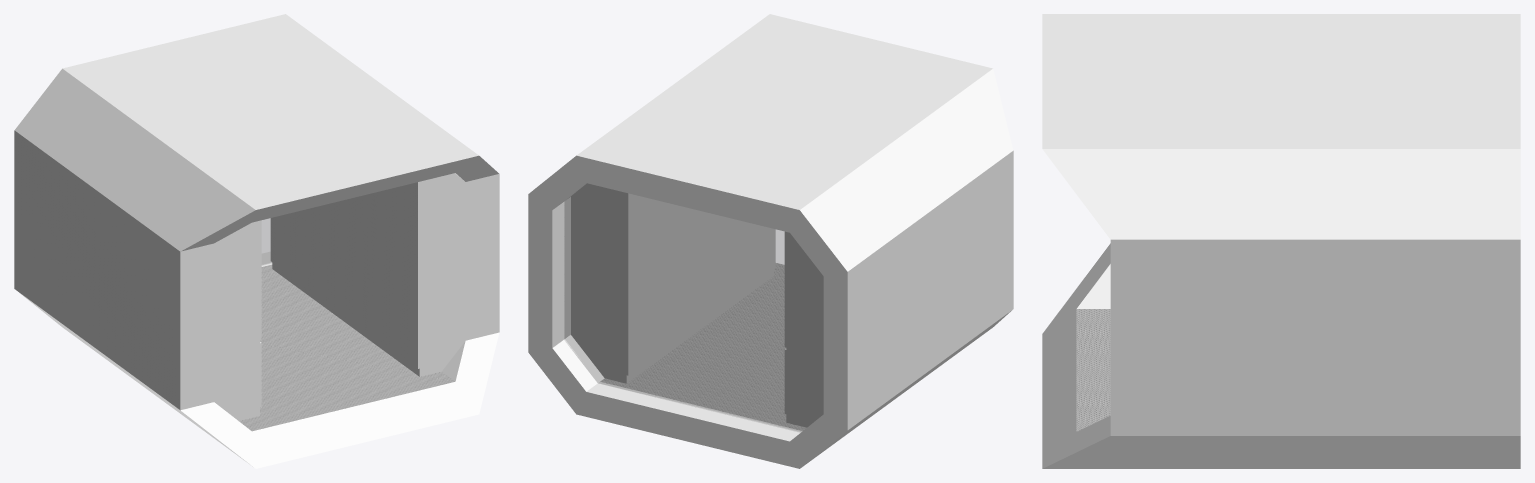
File: ARKHA_L2_StorageBay_V1.glb
The picture shows the model from 3 angles, left to right: view 1: azimuth 30°, elevation 25°; view 2: azimuth 150°, elevation 25°; view 3: azimuth 270°, elevation 25°; orthographic projection. The views are drawn at different scales.
Parts seen in each view (by area): view 1: 789724, 785563, 785621, 785564, 785565, 785566, 785567, 785568, 785569, 785570, 785571; view 2: 789724, 785176, 785563, 785621, 785571, 785570, 785569, 785568, 785567, 785566, 785565, 785564; view 3: 789724.
Part boxes in pixels (x1,y1,x2,y2): 789724: (14,14,499,468); 785563: (272,173,475,376); 785621: (204,220,261,420); 785564: (399,182,419,368); 785565: (381,186,399,354); 785566: (363,191,381,341); 785567: (344,195,362,328); 785568: (326,200,344,314); 785569: (307,204,325,301); 785570: (289,209,307,287); 785571: (270,213,288,273); 789724: (528,14,1013,468); 785176: (564,183,823,431); 785563: (571,183,773,383); 785621: (784,232,823,427); 785571: (626,193,646,375); 785570: (646,198,664,361); 785569: (665,202,683,348); 785568: (683,207,701,334); 785567: (702,211,720,321); 785566: (720,216,738,307); 785565: (739,220,757,294); 785564: (757,225,775,280); 789724: (1042,14,1520,468).
Bounding box in the file's own units: 4 × 3.1 × 4.2.
479 materials, 1 textured.
